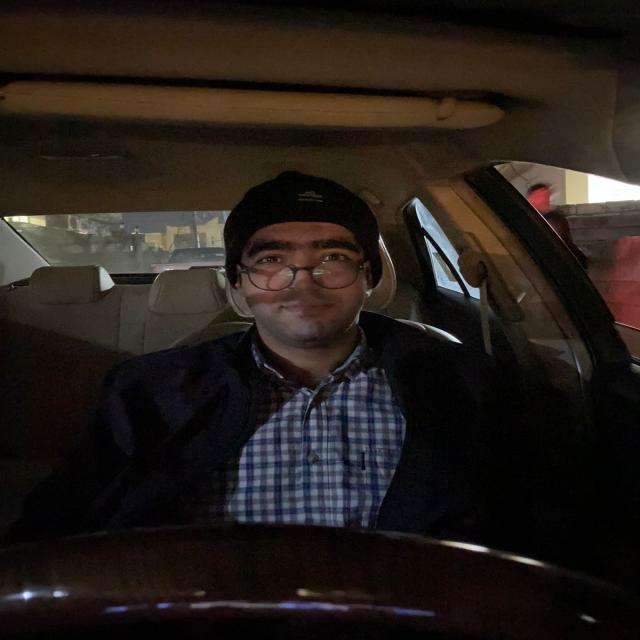person: (217, 167, 384, 348)
